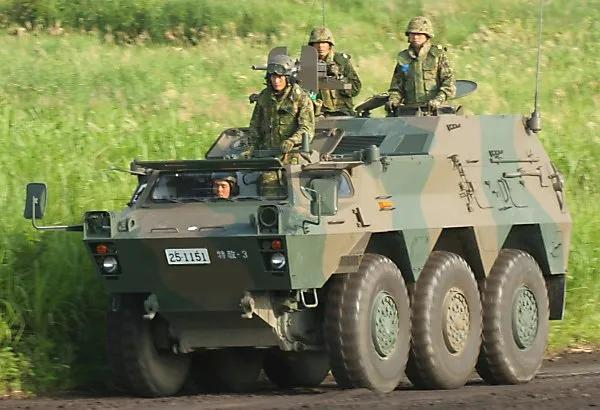MIL_IFV: (82, 18, 575, 401)
